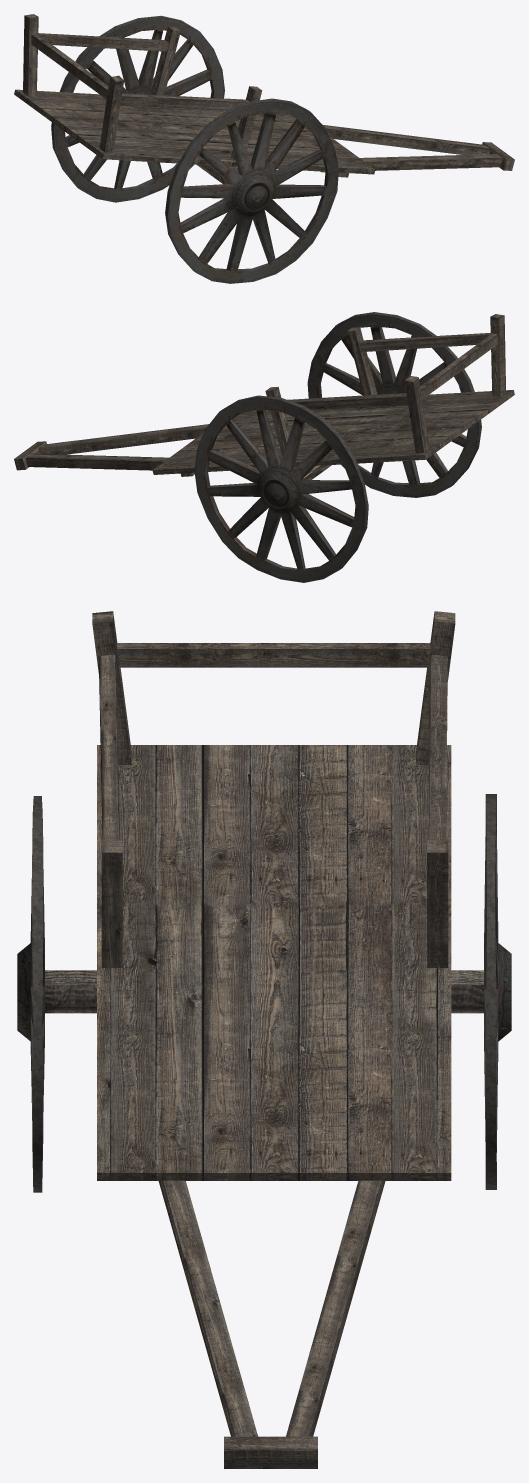
File: Haywagon_LOD01.fbx
The picture shows the model from 3 angles, top to bottom: view 1: azimuth 30°, elevation 25°; view 2: azimuth 150°, elevation 25°; view 3: azimuth 270°, elevation 25°; orthographic projection. The views are drawn at different scales.
Parts seen in each view (by area): view 1: Mesh Object; view 2: Mesh Object; view 3: Mesh Object.
Boxes of the visible parts, x1,y1,x2,y2 form: Mesh Object: (14,14,514,283); Mesh Object: (14,312,514,582); Mesh Object: (17,611,511,1468).
Size of the model in its own units: 2.75 by 1.3 by 1.32.
